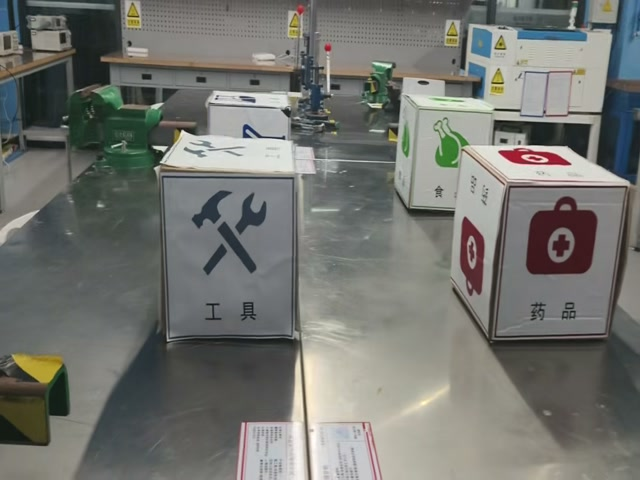Cube_food: (403, 97, 491, 116)
Cube_ins: (206, 88, 290, 112)
Cube_medicine: (461, 146, 625, 190)
Cube_tool: (159, 131, 299, 182)
